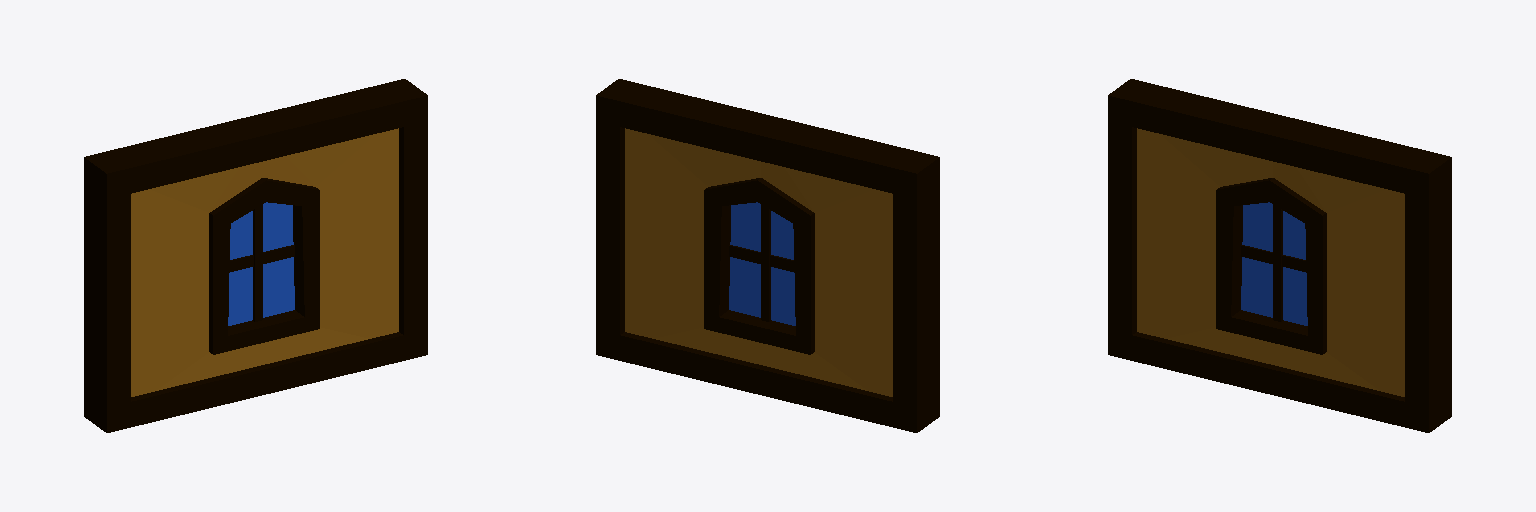
The model's file is Window02_topSmall.obj.
The picture shows the model from 3 angles: view 1: azimuth 30°, elevation 25°; view 2: azimuth 150°, elevation 25°; view 3: azimuth 330°, elevation 25°; orthographic projection.
Parts seen in each view (by area): view 1: SmallWindow_02_Cube.013; view 2: SmallWindow_02_Cube.013; view 3: SmallWindow_02_Cube.013.
Boxes of the visible parts, <box> form: SmallWindow_02_Cube.013: <box>84,79,427,432</box>; SmallWindow_02_Cube.013: <box>596,79,939,432</box>; SmallWindow_02_Cube.013: <box>1108,79,1451,432</box>.
Size of the model in its own units: 2.61 by 2.01 by 0.324.